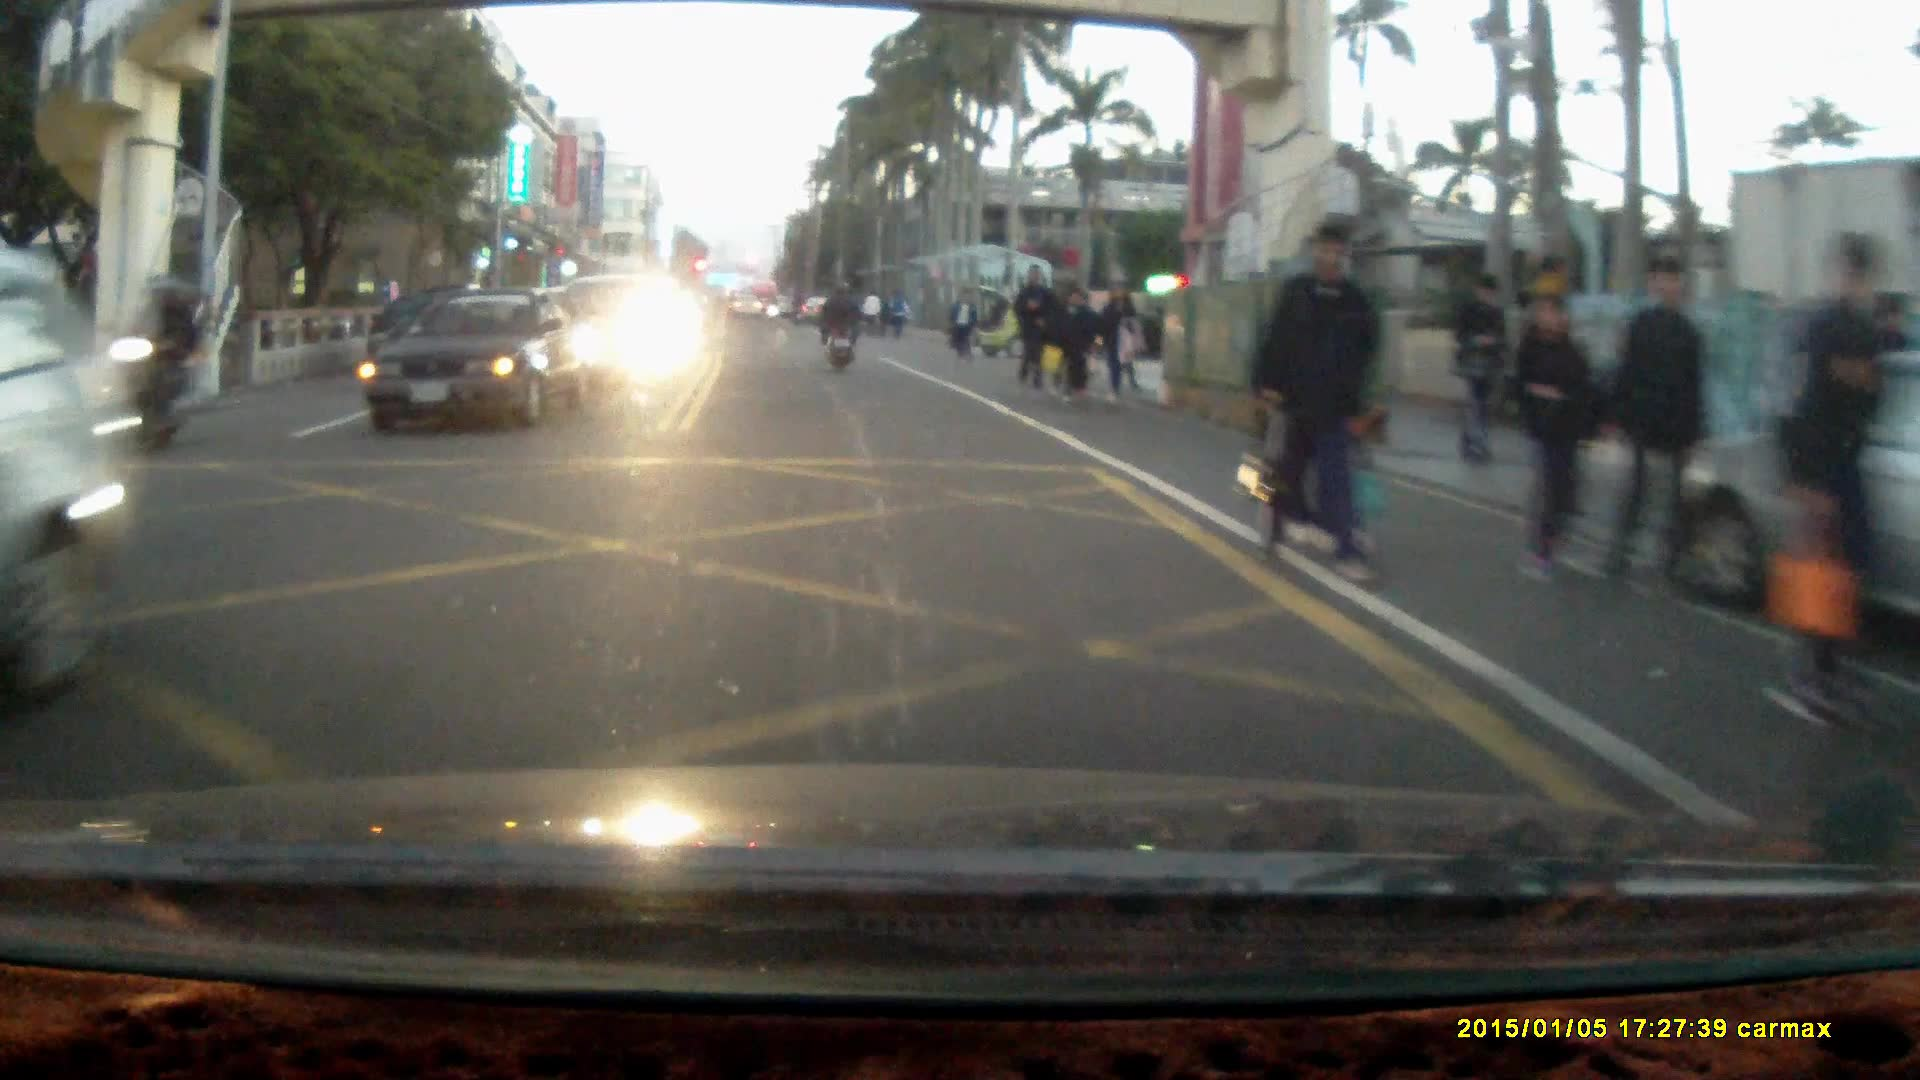pedestrian: (1764, 234, 1880, 739), (1255, 225, 1377, 589), (1609, 255, 1709, 605), (1515, 292, 1610, 597), (1451, 276, 1508, 478), (1094, 277, 1143, 405), (1010, 264, 1054, 400), (1050, 287, 1096, 405), (949, 290, 973, 362)
rider: (91, 270, 204, 461), (818, 281, 860, 376)
vehicle: (1660, 360, 1920, 635), (355, 300, 602, 442)
